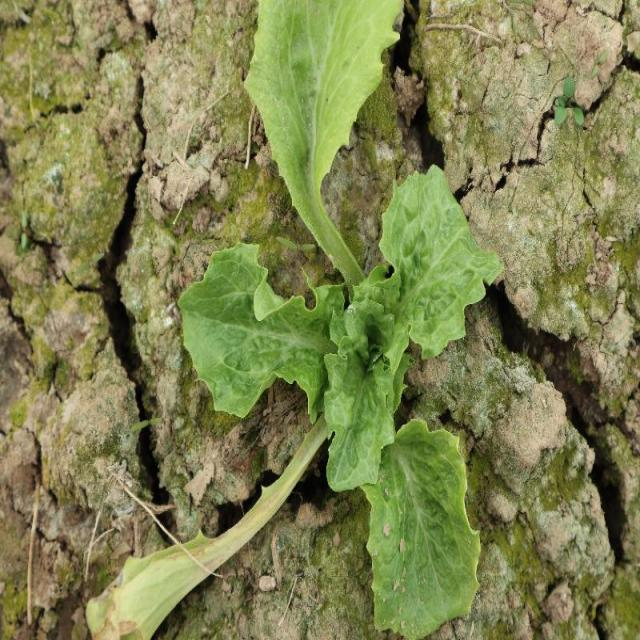crop: (182, 164, 507, 640)
